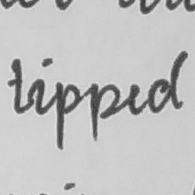d: (146, 48, 191, 116)
e: (124, 79, 144, 119)
i: (30, 57, 51, 116)
p: (86, 80, 123, 143), (53, 78, 82, 152)
t: (5, 56, 28, 115)
